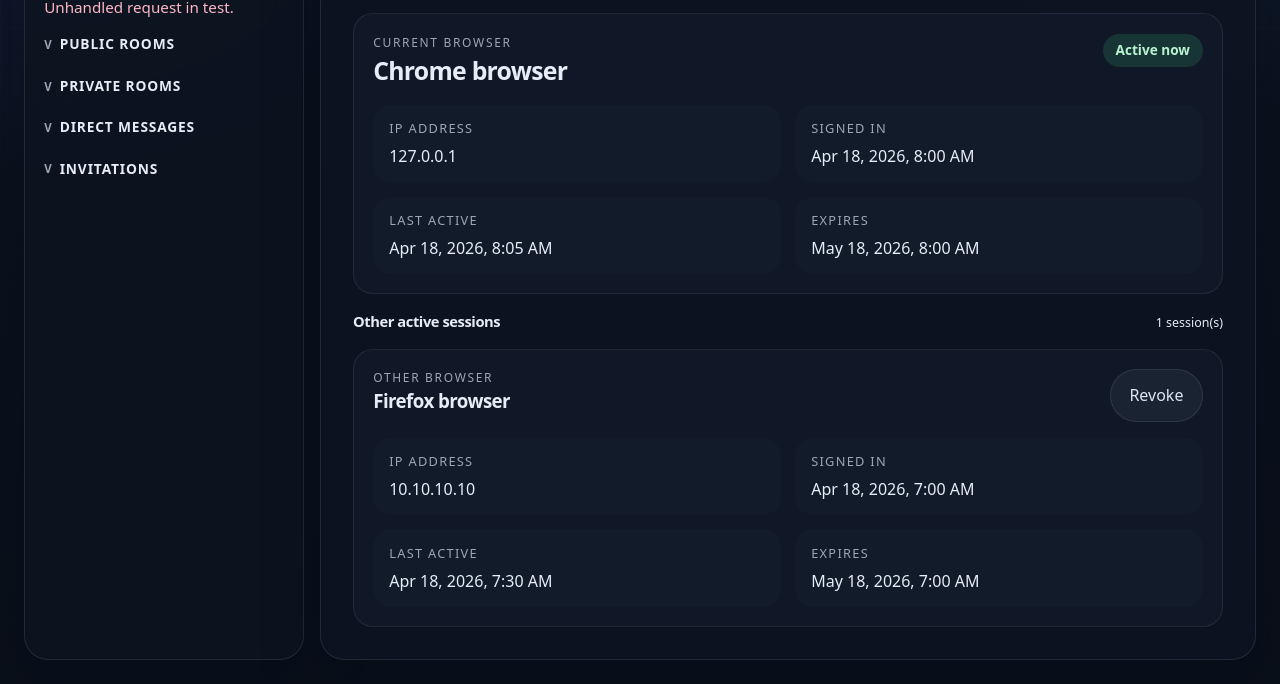
Scenario: App routes › shows active sessions and revokes a selected session
(page scrolled)
Expected: the heading "Chrome browser" is shown, [373, 52, 567, 89]
Expected: the heading "Firefox browser" is shown, [373, 387, 510, 415]
Click the button "Revoke": [1156, 395] box [1110, 369, 1203, 422]
(page scrolled)
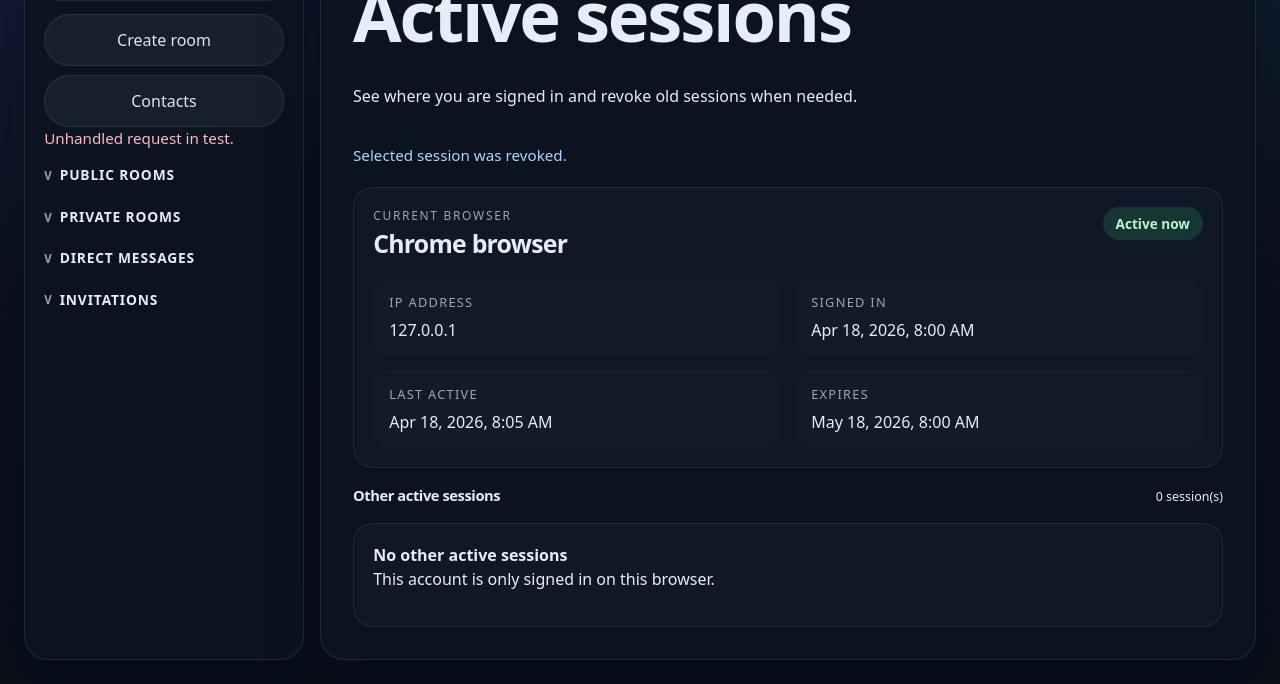
Expected: the text "Selected session was revoked." is shown, [353, 145, 567, 165]
Expected: the heading "Firefox browser" is gone
